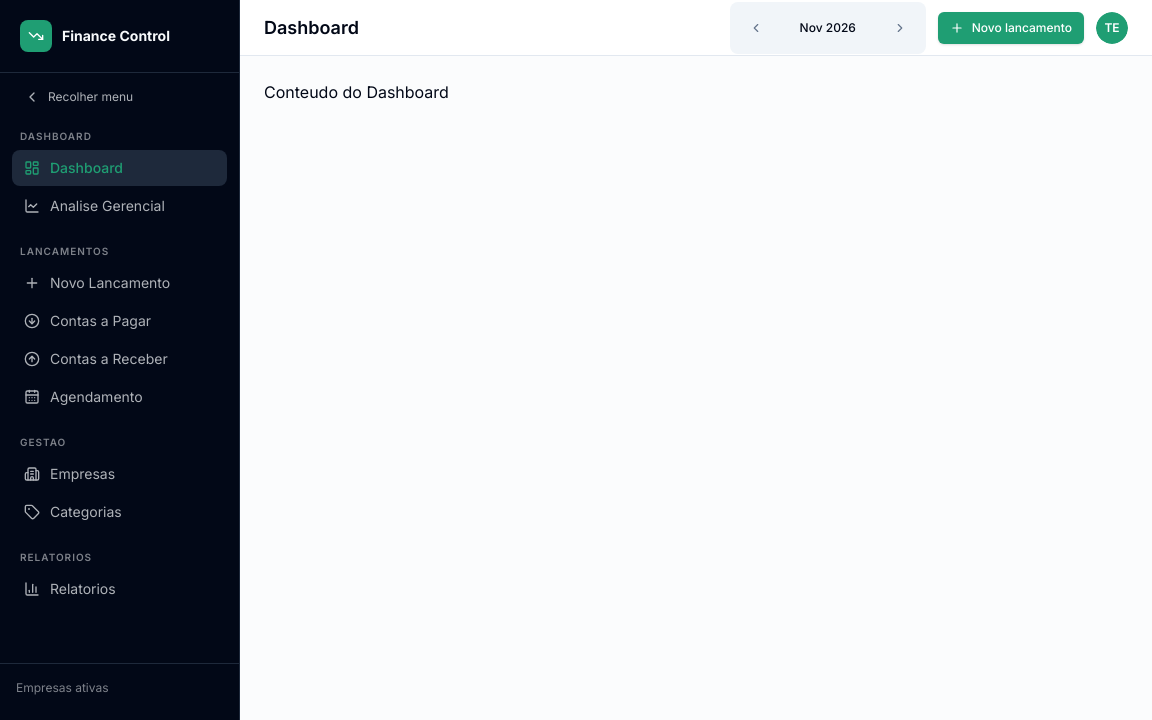
Test: AppLayout - navegacao responsiva › fecha a sidebar automaticamente ao navegar para outra pagina
The width and height of the screenshot is (1152, 720).
Earlier steps of the test are not shown.
Expected: the text "Finance Control" has class "translate-x-0", x1=0 y1=0 x2=240 y2=719
Click the link "Novo Lancamento" at {"x": 97, "y": 282}, box x1=24 y1=274 x2=170 y2=291
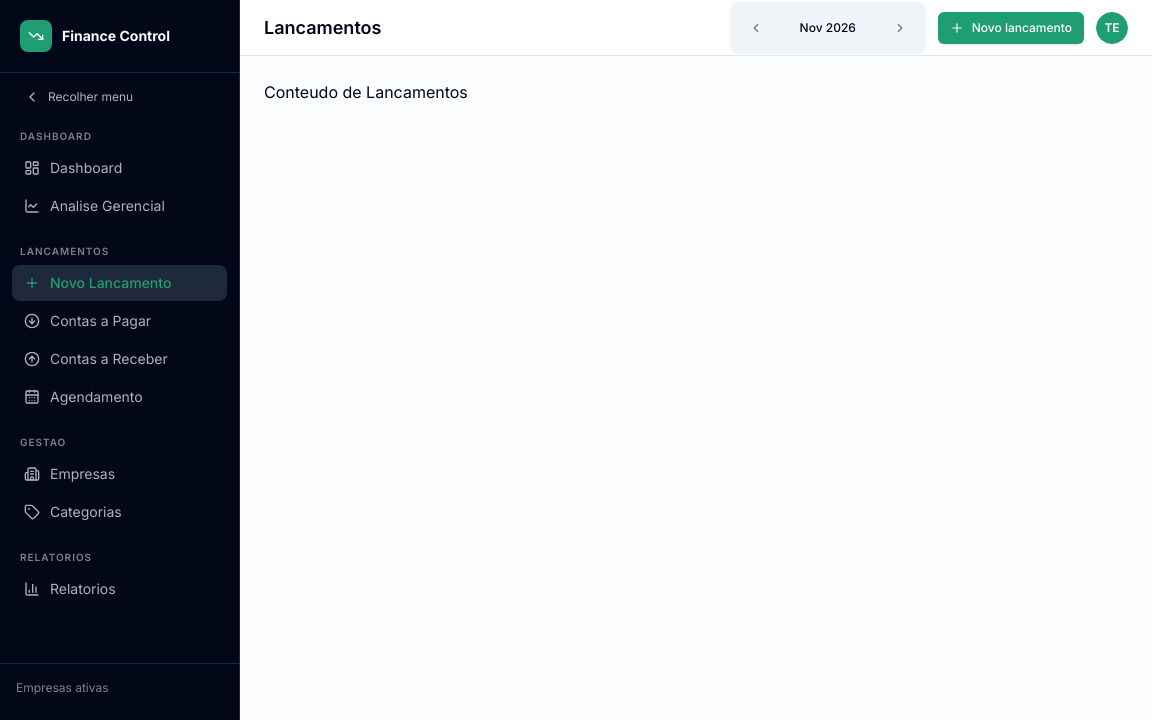
Expected: the text "Conteudo de Lancamentos" is shown, x1=264 y1=82 x2=468 y2=102
